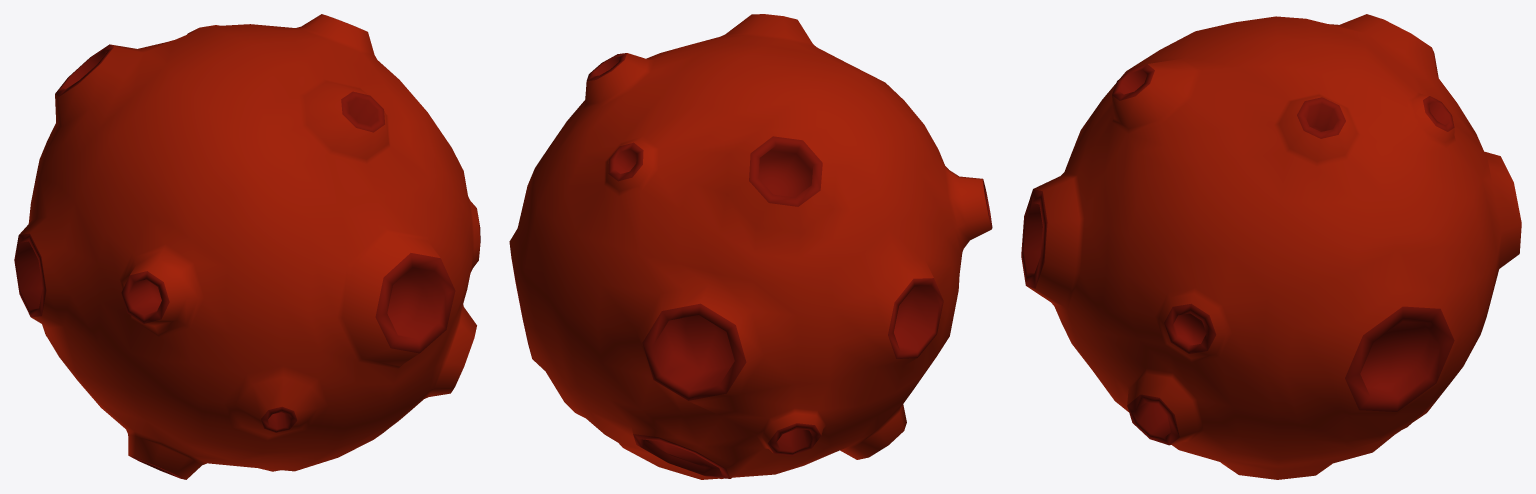
Rendered from Meteor.fbx.
The picture shows the model from 3 angles, left to right: view 1: azimuth 30°, elevation 25°; view 2: azimuth 150°, elevation 25°; view 3: azimuth 270°, elevation 25°; orthographic projection.
Visible parts, largest first — view 1: Meteor; view 2: Meteor; view 3: Meteor.
Boxes of the visible parts, x1,y1,x2,y2 form: Meteor: [14, 14, 480, 479]; Meteor: [509, 14, 992, 479]; Meteor: [1021, 14, 1521, 479].
Bounding box in the file's own units: 177 × 175 × 192.
1 material, 1 textured.
